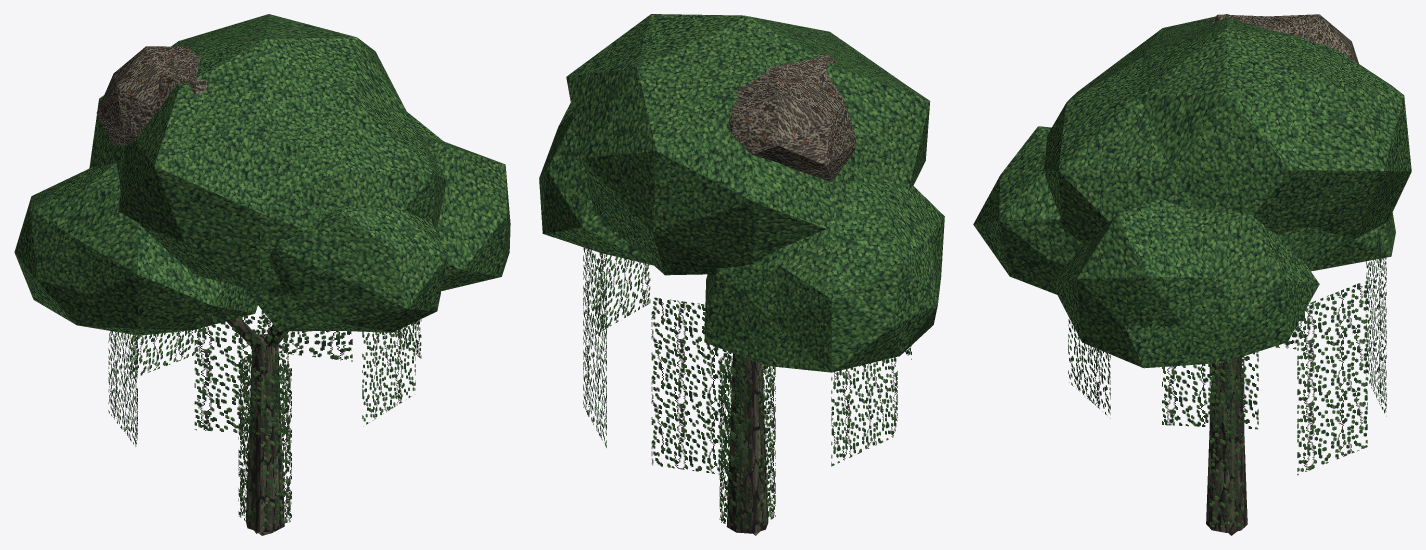
The model's file is VG_Tree_Overgrown.obj.
3 views of the same model, side by side, from view 1: azimuth 30°, elevation 25°; view 2: azimuth 150°, elevation 25°; view 3: azimuth 270°, elevation 25° (orthographic). The views are drawn at different scales.
Parts seen in each view (by area): view 1: VG_Tree_Overgrown_Mesh_M_Grnd_HedgeFoliage, VG_Tree_Overgrown_Mesh_M_Town_Ivy, VG_Tree_Overgrown_Mesh_M_Grnd_DeadVegetation, VG_Tree_Overgrown_Mesh_M_Grnd_TreeBark; view 2: VG_Tree_Overgrown_Mesh_M_Grnd_HedgeFoliage, VG_Tree_Overgrown_Mesh_M_Town_Ivy, VG_Tree_Overgrown_Mesh_M_Grnd_DeadVegetation, VG_Tree_Overgrown_Mesh_M_Grnd_TreeBark; view 3: VG_Tree_Overgrown_Mesh_M_Grnd_HedgeFoliage, VG_Tree_Overgrown_Mesh_M_Town_Ivy, VG_Tree_Overgrown_Mesh_M_Grnd_TreeBark, VG_Tree_Overgrown_Mesh_M_Grnd_DeadVegetation.
Boxes of the visible parts, bbox=[...] form: VG_Tree_Overgrown_Mesh_M_Grnd_HedgeFoliage: bbox=[14, 14, 510, 335]; VG_Tree_Overgrown_Mesh_M_Town_Ivy: bbox=[108, 310, 421, 528]; VG_Tree_Overgrown_Mesh_M_Grnd_DeadVegetation: bbox=[96, 46, 207, 145]; VG_Tree_Overgrown_Mesh_M_Grnd_TreeBark: bbox=[226, 318, 288, 535]; VG_Tree_Overgrown_Mesh_M_Grnd_HedgeFoliage: bbox=[539, 14, 944, 372]; VG_Tree_Overgrown_Mesh_M_Town_Ivy: bbox=[583, 239, 911, 530]; VG_Tree_Overgrown_Mesh_M_Grnd_DeadVegetation: bbox=[728, 53, 856, 181]; VG_Tree_Overgrown_Mesh_M_Grnd_TreeBark: bbox=[726, 353, 768, 535]; VG_Tree_Overgrown_Mesh_M_Grnd_HedgeFoliage: bbox=[973, 14, 1411, 368]; VG_Tree_Overgrown_Mesh_M_Town_Ivy: bbox=[1068, 230, 1386, 526]; VG_Tree_Overgrown_Mesh_M_Grnd_TreeBark: bbox=[1206, 357, 1247, 535]; VG_Tree_Overgrown_Mesh_M_Grnd_DeadVegetation: bbox=[1210, 14, 1358, 63].
Bounding box in the file's own units: 6.95 × 8.01 × 6.31.
4 materials, 4 textured.
